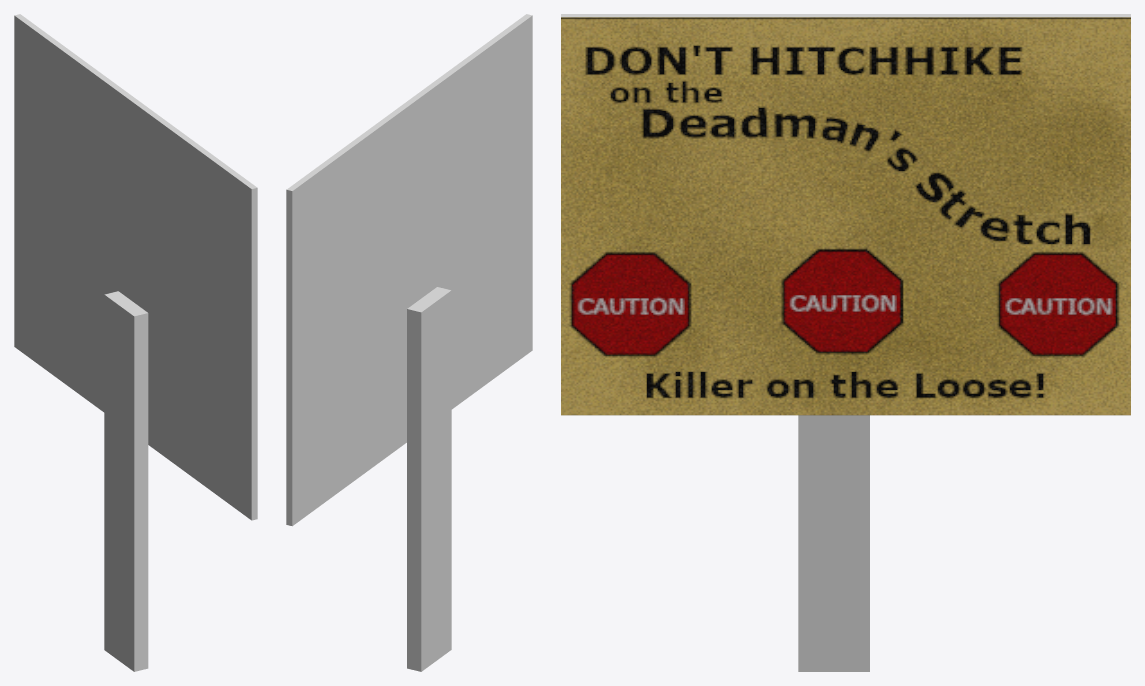
The model's file is SmallSign.fbx.
The picture shows the model from 3 angles, left to right: view 1: azimuth 30°, elevation 25°; view 2: azimuth 150°, elevation 25°; view 3: azimuth 270°, elevation 25°; orthographic projection. The views are drawn at different scales.
Visible parts, largest first — view 1: Sign2; view 2: Sign2; view 3: Sign2.
Part boxes in pixels (x1=…): Sign2: x1=14, y1=14, x2=257, y2=671; Sign2: x1=286, y1=14, x2=532, y2=671; Sign2: x1=561, y1=14, x2=1130, y2=671.
Size of the model in its own units: 38.63 by 825 by 645.
